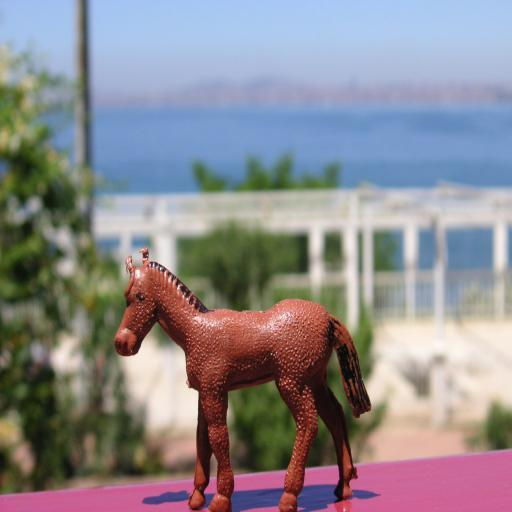horse: (115, 244, 373, 512)
